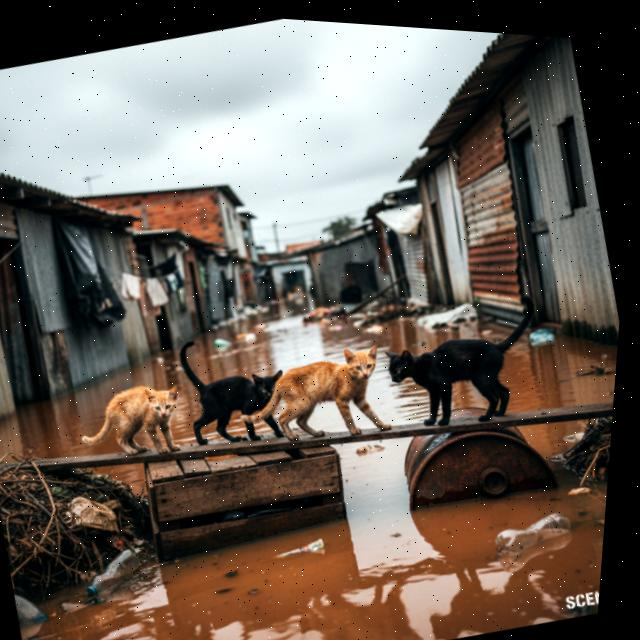cat: (361, 273, 566, 449), (210, 329, 406, 473), (159, 314, 305, 463), (65, 367, 198, 476)
